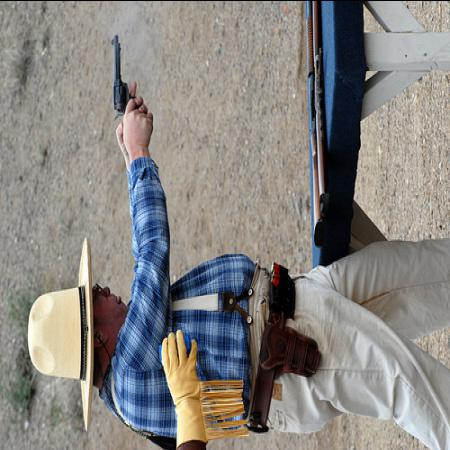Pistol: (109, 36, 146, 118)
